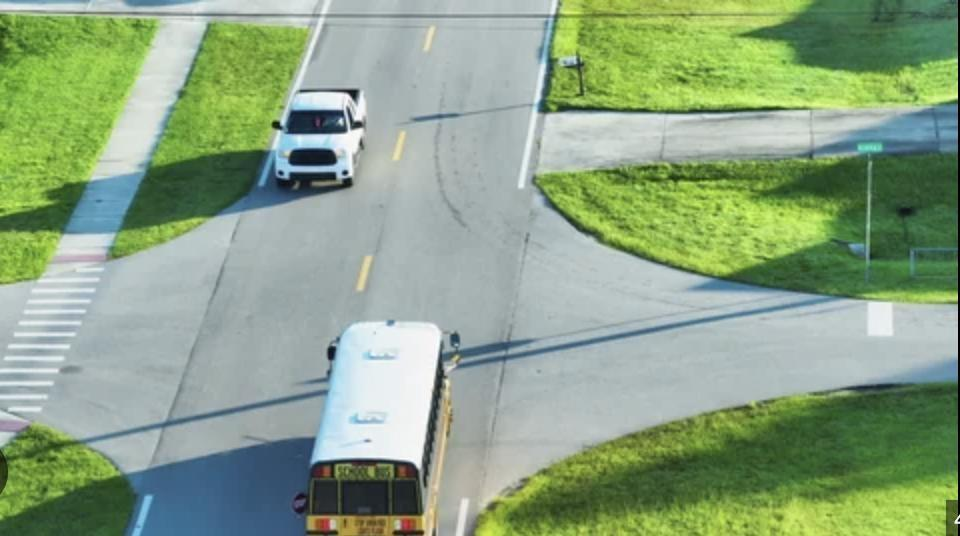Bus: (306, 321, 452, 536)
Car: (272, 89, 364, 188)
